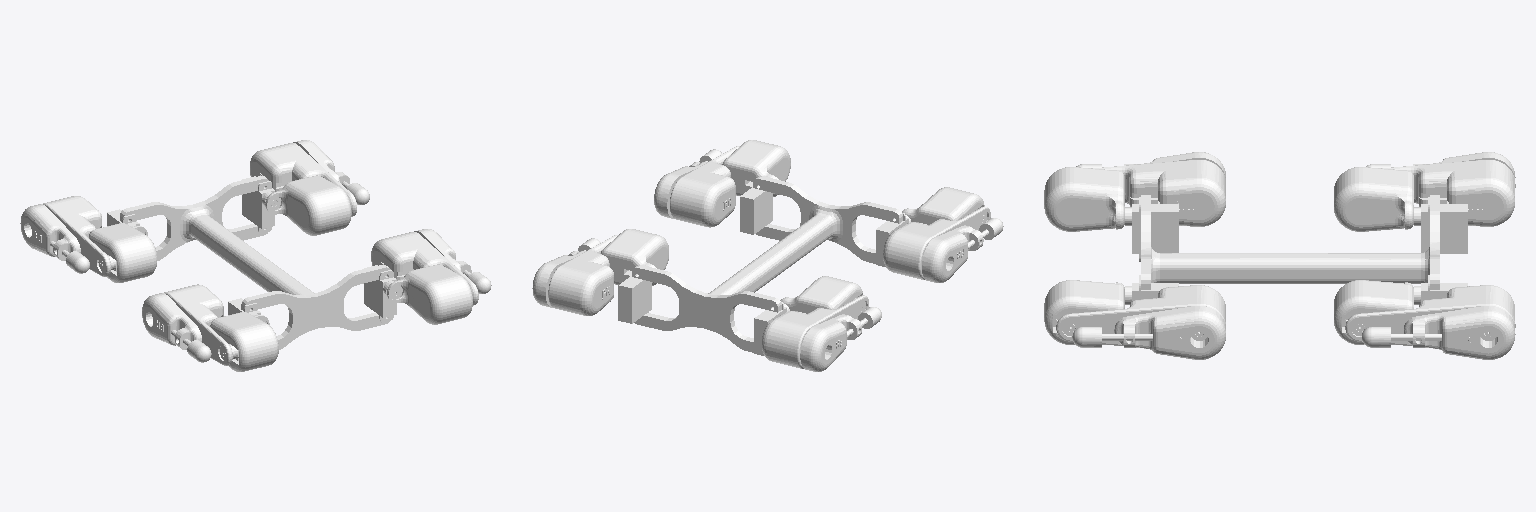
URDF robot description (4LeggedRobot):
<?xml version="1.0" encoding="utf-8"?>
<robot
  name="4LeggedRobot">
  <link
    name="base_link">
    <inertial>
      <origin
        xyz="-4.67618896027923E-18 0.00112926420960739 0.000108071999785027"
        rpy="0 0 0" />
      <mass
        value="0.0405747889566964" />
      <inertia
        ixx="6.21019690807018E-05"
        ixy="-1.55992341540088E-20"
        ixz="-1.56356271185154E-20"
        iyy="7.04769172889022E-06"
        iyz="4.9404265084224E-08"
        izz="6.57507507221997E-05" />
    </inertial>
    <visual>
      <origin
        xyz="0 0 0"
        rpy="0 0 0" />
      <geometry>
        <mesh
          filename="package://LeggedRobot/meshes/base_link.STL" />
      </geometry>
      <material
        name="">
        <color
          rgba="1 1 1 1" />
      </material>
    </visual>
    <collision>
      <origin
        xyz="0 0 0"
        rpy="0 0 0" />
      <geometry>
        <mesh
          filename="package://LeggedRobot/meshes/base_link.STL" />
      </geometry>
    </collision>
  </link>
  <link
    name="RL1">
    <inertial>
      <origin
        xyz="0.0165355859242992 -3.35707190622647E-08 0.0165938065233727"
        rpy="0 0 0" />
      <mass
        value="0.0154728310038278" />
      <inertia
        ixx="1.88017642656069E-06"
        ixy="6.52552468191808E-12"
        ixz="-7.36140757760406E-08"
        iyy="2.06034003299536E-06"
        iyz="-1.60999520321013E-12"
        izz="1.26644048429643E-06" />
    </inertial>
    <visual>
      <origin
        xyz="0 0 0"
        rpy="0 0 0" />
      <geometry>
        <mesh
          filename="package://LeggedRobot/meshes/RL1.STL" />
      </geometry>
      <material
        name="">
        <color
          rgba="1 1 1 1" />
      </material>
    </visual>
    <collision>
      <origin
        xyz="0 0 0"
        rpy="0 0 0" />
      <geometry>
        <mesh
          filename="package://LeggedRobot/meshes/RL1.STL" />
      </geometry>
    </collision>
  </link>
  <joint
    name="RL1"
    type="revolute">
    <origin
      xyz="0.04 0.053 0.006"
      rpy="1.5708 0 0" />
    <parent
      link="base_link" />
    <child
      link="RL1" />
    <axis
      xyz="0 0 1" />
    <limit
      lower="-3.14"
      upper="3.14"
      effort="0"
      velocity="0" />
  </joint>
  <link
    name="RL2">
    <inertial>
      <origin
        xyz="-0.00615048052907508 -2.58694109237477E-07 -0.0443680838684956"
        rpy="0 0 0" />
      <mass
        value="0.017775019102354" />
      <inertia
        ixx="4.28912167153196E-06"
        ixy="-6.75500963480906E-11"
        ixz="-7.00210531163762E-07"
        iyy="4.50065807561721E-06"
        iyz="-2.09226986527391E-11"
        izz="1.41192588509136E-06" />
    </inertial>
    <visual>
      <origin
        xyz="0 0 0"
        rpy="0 0 0" />
      <geometry>
        <mesh
          filename="package://LeggedRobot/meshes/RL2.STL" />
      </geometry>
      <material
        name="">
        <color
          rgba="1 1 1 1" />
      </material>
    </visual>
    <collision>
      <origin
        xyz="0 0 0"
        rpy="0 0 0" />
      <geometry>
        <mesh
          filename="package://LeggedRobot/meshes/RL2.STL" />
      </geometry>
    </collision>
  </link>
  <joint
    name="RL2"
    type="revolute">
    <origin
      xyz="0.03 0 0.023"
      rpy="0 0 0" />
    <parent
      link="RL1" />
    <child
      link="RL2" />
    <axis
      xyz="1 0 0" />
    <limit
      lower="-3.14"
      upper="3.14"
      effort="0"
      velocity="0" />
  </joint>
  <link
    name="RL3">
    <inertial>
      <origin
        xyz="0.00474785006472449 -4.41506464914608E-07 0.0132196273413206"
        rpy="0 0 0" />
      <mass
        value="0.00741481465639685" />
      <inertia
        ixx="1.12934099530278E-06"
        ixy="1.65809730056242E-11"
        ixz="2.3432880006625E-08"
        iyy="9.84902524234339E-07"
        iyz="7.69481103246776E-12"
        izz="2.53579358853455E-07" />
    </inertial>
    <visual>
      <origin
        xyz="0 0 0"
        rpy="0 0 0" />
      <geometry>
        <mesh
          filename="package://LeggedRobot/meshes/RL3.STL" />
      </geometry>
      <material
        name="">
        <color
          rgba="1 1 1 1" />
      </material>
    </visual>
    <collision>
      <origin
        xyz="0 0 0"
        rpy="0 0 0" />
      <geometry>
        <mesh
          filename="package://LeggedRobot/meshes/RL3.STL" />
      </geometry>
    </collision>
  </link>
  <joint
    name="RL3"
    type="revolute">
    <origin
      xyz="0.005 0 -0.055"
      rpy="0 0 0" />
    <parent
      link="RL2" />
    <child
      link="RL3" />
    <axis
      xyz="1 0 0" />
    <limit
      lower="-3.14"
      upper="3.14"
      effort="0"
      velocity="0" />
  </joint>
  <link
    name="FL1">
    <inertial>
      <origin
        xyz="0.0165355859242993 -3.3570719082214E-08 0.0165938065233726"
        rpy="0 0 0" />
      <mass
        value="0.0154728310038278" />
      <inertia
        ixx="1.88017642656069E-06"
        ixy="6.52552468170275E-12"
        ixz="-7.36140757760412E-08"
        iyy="2.06034003299536E-06"
        iyz="-1.60999520308425E-12"
        izz="1.26644048429643E-06" />
    </inertial>
    <visual>
      <origin
        xyz="0 0 0"
        rpy="0 0 0" />
      <geometry>
        <mesh
          filename="package://LeggedRobot/meshes/FL1.STL" />
      </geometry>
      <material
        name="">
        <color
          rgba="1 1 1 1" />
      </material>
    </visual>
    <collision>
      <origin
        xyz="0 0 0"
        rpy="0 0 0" />
      <geometry>
        <mesh
          filename="package://LeggedRobot/meshes/FL1.STL" />
      </geometry>
    </collision>
  </link>
  <joint
    name="FL1"
    type="revolute">
    <origin
      xyz="0.04 -0.071 0.006"
      rpy="1.5708 0 0" />
    <parent
      link="base_link" />
    <child
      link="FL1" />
    <axis
      xyz="0 0 1" />
    <limit
      lower="-3.14"
      upper="3.14"
      effort="0"
      velocity="0" />
  </joint>
  <link
    name="FL2">
    <inertial>
      <origin
        xyz="-0.00615048052834689 -2.58694000943895E-07 -0.0443680838683433"
        rpy="0 0 0" />
      <mass
        value="0.0177750191011879" />
      <inertia
        ixx="4.28912167149233E-06"
        ixy="-6.7550073300334E-11"
        ixz="-7.00210531105169E-07"
        iyy="4.50065807542378E-06"
        iyz="-2.09226897043096E-11"
        izz="1.41192588493079E-06" />
    </inertial>
    <visual>
      <origin
        xyz="0 0 0"
        rpy="0 0 0" />
      <geometry>
        <mesh
          filename="package://LeggedRobot/meshes/FL2.STL" />
      </geometry>
      <material
        name="">
        <color
          rgba="1 1 1 1" />
      </material>
    </visual>
    <collision>
      <origin
        xyz="0 0 0"
        rpy="0 0 0" />
      <geometry>
        <mesh
          filename="package://LeggedRobot/meshes/FL2.STL" />
      </geometry>
    </collision>
  </link>
  <joint
    name="FL2"
    type="revolute">
    <origin
      xyz="0.03 0 0.023"
      rpy="0 0 0" />
    <parent
      link="FL1" />
    <child
      link="FL2" />
    <axis
      xyz="1 0 0" />
    <limit
      lower="-3.14"
      upper="3.14"
      effort="0"
      velocity="0" />
  </joint>
  <link
    name="FL3">
    <inertial>
      <origin
        xyz="0.00474785006472456 -4.41506464895526E-07 0.0132196273413205"
        rpy="0 0 0" />
      <mass
        value="0.00741481465639687" />
      <inertia
        ixx="1.12934099530278E-06"
        ixy="1.65809730057826E-11"
        ixz="2.34328800066249E-08"
        iyy="9.84902524234341E-07"
        iyz="7.69481103225521E-12"
        izz="2.53579358853454E-07" />
    </inertial>
    <visual>
      <origin
        xyz="0 0 0"
        rpy="0 0 0" />
      <geometry>
        <mesh
          filename="package://LeggedRobot/meshes/FL3.STL" />
      </geometry>
      <material
        name="">
        <color
          rgba="1 1 1 1" />
      </material>
    </visual>
    <collision>
      <origin
        xyz="0 0 0"
        rpy="0 0 0" />
      <geometry>
        <mesh
          filename="package://LeggedRobot/meshes/FL3.STL" />
      </geometry>
    </collision>
  </link>
  <joint
    name="FL3"
    type="revolute">
    <origin
      xyz="0.005 0 -0.055"
      rpy="0 0 0" />
    <parent
      link="FL2" />
    <child
      link="FL3" />
    <axis
      xyz="1 0 0" />
    <limit
      lower="-3.14"
      upper="3.14"
      effort="0"
      velocity="0" />
  </joint>
  <link
    name="RR1">
    <inertial>
      <origin
        xyz="-0.0165355859242992 3.35707190492543E-08 0.0165938065233727"
        rpy="0 0 0" />
      <mass
        value="0.0154728310038278" />
      <inertia
        ixx="1.88017642656069E-06"
        ixy="6.52552468170744E-12"
        ixz="7.36140757760404E-08"
        iyy="2.06034003299536E-06"
        iyz="1.6099952031167E-12"
        izz="1.26644048429643E-06" />
    </inertial>
    <visual>
      <origin
        xyz="0 0 0"
        rpy="0 0 0" />
      <geometry>
        <mesh
          filename="package://LeggedRobot/meshes/RR1.STL" />
      </geometry>
      <material
        name="">
        <color
          rgba="1 1 1 1" />
      </material>
    </visual>
    <collision>
      <origin
        xyz="0 0 0"
        rpy="0 0 0" />
      <geometry>
        <mesh
          filename="package://LeggedRobot/meshes/RR1.STL" />
      </geometry>
    </collision>
  </link>
  <joint
    name="RR1"
    type="revolute">
    <origin
      xyz="-0.04 0.053 0.006"
      rpy="1.5708 0 0" />
    <parent
      link="base_link" />
    <child
      link="RR1" />
    <axis
      xyz="0 0 1" />
    <limit
      lower="-3.14"
      upper="3.14"
      effort="0"
      velocity="0" />
  </joint>
  <link
    name="RR2">
    <inertial>
      <origin
        xyz="0.00615048052834685 2.58694000949966E-07 -0.0443680838683432"
        rpy="0 0 0" />
      <mass
        value="0.0177750191011879" />
      <inertia
        ixx="4.28912167149234E-06"
        ixy="-6.75500733002476E-11"
        ixz="7.0021053110517E-07"
        iyy="4.50065807542378E-06"
        iyz="2.09226897044436E-11"
        izz="1.41192588493079E-06" />
    </inertial>
    <visual>
      <origin
        xyz="0 0 0"
        rpy="0 0 0" />
      <geometry>
        <mesh
          filename="package://LeggedRobot/meshes/RR2.STL" />
      </geometry>
      <material
        name="">
        <color
          rgba="1 1 1 1" />
      </material>
    </visual>
    <collision>
      <origin
        xyz="0 0 0"
        rpy="0 0 0" />
      <geometry>
        <mesh
          filename="package://LeggedRobot/meshes/RR2.STL" />
      </geometry>
    </collision>
  </link>
  <joint
    name="RR2"
    type="revolute">
    <origin
      xyz="-0.03 0 0.023"
      rpy="0 0 0" />
    <parent
      link="RR1" />
    <child
      link="RR2" />
    <axis
      xyz="-1 0 0" />
    <limit
      lower="-3.14"
      upper="3.14"
      effort="0"
      velocity="0" />
  </joint>
  <link
    name="RR3">
    <inertial>
      <origin
        xyz="-0.0047478500647245 4.41506464874709E-07 0.0132196273413205"
        rpy="0 0 0" />
      <mass
        value="0.00741481465639685" />
      <inertia
        ixx="1.12934099530278E-06"
        ixy="1.65809730056098E-11"
        ixz="-2.34328800066245E-08"
        iyy="9.84902524234339E-07"
        iyz="-7.6948110323119E-12"
        izz="2.53579358853454E-07" />
    </inertial>
    <visual>
      <origin
        xyz="0 0 0"
        rpy="0 0 0" />
      <geometry>
        <mesh
          filename="package://LeggedRobot/meshes/RR3.STL" />
      </geometry>
      <material
        name="">
        <color
          rgba="1 1 1 1" />
      </material>
    </visual>
    <collision>
      <origin
        xyz="0 0 0"
        rpy="0 0 0" />
      <geometry>
        <mesh
          filename="package://LeggedRobot/meshes/RR3.STL" />
      </geometry>
    </collision>
  </link>
  <joint
    name="RR3"
    type="revolute">
    <origin
      xyz="-0.00499999999999998 0 -0.055"
      rpy="0 0 0" />
    <parent
      link="RR2" />
    <child
      link="RR3" />
    <axis
      xyz="-1 0 0" />
    <limit
      lower="-3.14"
      upper="3.14"
      effort="0"
      velocity="0" />
  </joint>
  <link
    name="FR1">
    <inertial>
      <origin
        xyz="-0.0165355859242992 3.35707190587953E-08 0.0165938065233726"
        rpy="0 0 0" />
      <mass
        value="0.0154728310038278" />
      <inertia
        ixx="1.88017642656069E-06"
        ixy="6.52552468108426E-12"
        ixz="7.36140757760413E-08"
        iyy="2.06034003299536E-06"
        iyz="1.60999520254119E-12"
        izz="1.26644048429643E-06" />
    </inertial>
    <visual>
      <origin
        xyz="0 0 0"
        rpy="0 0 0" />
      <geometry>
        <mesh
          filename="package://LeggedRobot/meshes/FR1.STL" />
      </geometry>
      <material
        name="">
        <color
          rgba="1 1 1 1" />
      </material>
    </visual>
    <collision>
      <origin
        xyz="0 0 0"
        rpy="0 0 0" />
      <geometry>
        <mesh
          filename="package://LeggedRobot/meshes/FR1.STL" />
      </geometry>
    </collision>
  </link>
  <joint
    name="FR1"
    type="revolute">
    <origin
      xyz="-0.04 -0.071 0.00599999999999998"
      rpy="1.5707963267949 0 0" />
    <parent
      link="base_link" />
    <child
      link="FR1" />
    <axis
      xyz="0 0 1" />
    <limit
      lower="-3.14"
      upper="3.14"
      effort="0"
      velocity="0" />
  </joint>
  <link
    name="FR2">
    <inertial>
      <origin
        xyz="0.00615048052824702 2.58693986573445E-07 -0.0443680838683225"
        rpy="0 0 0" />
      <mass
        value="0.017775019101028" />
      <inertia
        ixx="4.28912167148695E-06"
        ixy="-6.75500702402757E-11"
        ixz="7.00210531097166E-07"
        iyy="4.50065807539728E-06"
        iyz="2.09226885203825E-11"
        izz="1.4119258849088E-06" />
    </inertial>
    <visual>
      <origin
        xyz="0 0 0"
        rpy="0 0 0" />
      <geometry>
        <mesh
          filename="package://LeggedRobot/meshes/FR2.STL" />
      </geometry>
      <material
        name="">
        <color
          rgba="1 1 1 1" />
      </material>
    </visual>
    <collision>
      <origin
        xyz="0 0 0"
        rpy="0 0 0" />
      <geometry>
        <mesh
          filename="package://LeggedRobot/meshes/FR2.STL" />
      </geometry>
    </collision>
  </link>
  <joint
    name="FR2"
    type="revolute">
    <origin
      xyz="-0.03 0 0.023"
      rpy="0 0 0" />
    <parent
      link="FR1" />
    <child
      link="FR2" />
    <axis
      xyz="-1 0 0" />
    <limit
      lower="-3.14"
      upper="3.14"
      effort="0"
      velocity="0" />
  </joint>
  <link
    name="FR3">
    <inertial>
      <origin
        xyz="-0.00474785006485695 4.41507593115439E-07 0.0132196273437121"
        rpy="0 0 0" />
      <mass
        value="0.0074148146565658" />
      <inertia
        ixx="1.1293409959014E-06"
        ixy="1.65809556542359E-11"
        ixz="-2.3432880004565E-08"
        iyy="9.84902524925173E-07"
        iyz="-7.69489425583651E-12"
        izz="2.53579358752959E-07" />
    </inertial>
    <visual>
      <origin
        xyz="0 0 0"
        rpy="0 0 0" />
      <geometry>
        <mesh
          filename="package://LeggedRobot/meshes/FR3.STL" />
      </geometry>
      <material
        name="">
        <color
          rgba="1 1 1 1" />
      </material>
    </visual>
    <collision>
      <origin
        xyz="0 0 0"
        rpy="0 0 0" />
      <geometry>
        <mesh
          filename="package://LeggedRobot/meshes/FR3.STL" />
      </geometry>
    </collision>
  </link>
  <joint
    name="FR3"
    type="revolute">
    <origin
      xyz="-0.00499999999999999 0 -0.055"
      rpy="0 0 0" />
    <parent
      link="FR2" />
    <child
      link="FR3" />
    <axis
      xyz="-1 0 0" />
    <limit
      lower="-3.14"
      upper="3.14"
      effort="0"
      velocity="0" />
  </joint>
</robot>

--- Render facts (derived) ---
3 views of the same robot in one strip: view 1: azimuth 30°, elevation 25°; view 2: azimuth 150°, elevation 25°; view 3: azimuth 270°, elevation 25° (orthographic).
Robot: 4LeggedRobot — 13 links, 12 joints (12 revolute); root link base_link; default pose: all joints at 0.
Links seen in each view (by area): view 1: base_link, RL1, FL1, FR1, RR1, FR3, RR3, RL2, FL2, FR2, RR2, RL3 (+1 smaller); view 2: base_link, FL2, RL2, FR2, RR2, RR3, FR3, RL1, FL1, RR1, FR1, FL3 (+1 smaller); view 3: base_link, FL3, RL3, FR2, RR2, FR1, RR1, RL2, FL2, FL1, RL1, RR3 (+1 smaller).
Link boxes in pixels (x1=…): base_link: x1=107, y1=176, x2=398, y2=349; RL1: x1=265, y1=175, x2=351, y2=235; FL1: x1=387, y1=264, x2=472, y2=324; FR1: x1=210, y1=312, x2=278, y2=371; RR1: x1=89, y1=223, x2=156, y2=282; FR3: x1=142, y1=293, x2=211, y2=362; RR3: x1=20, y1=204, x2=89, y2=273; RL2: x1=250, y1=143, x2=356, y2=216; FL2: x1=371, y1=232, x2=478, y2=305; FR2: x1=164, y1=284, x2=232, y2=365; RR2: x1=43, y1=196, x2=111, y2=276; RL3: x1=293, y1=140, x2=369, y2=204; base_link: x1=618, y1=176, x2=910, y2=355; FL2: x1=670, y1=146, x2=739, y2=227; RL2: x1=548, y1=235, x2=617, y2=315; FR2: x1=883, y1=206, x2=990, y2=279; RR2: x1=762, y1=295, x2=868, y2=368; RR3: x1=800, y1=307, x2=881, y2=371; FR3: x1=922, y1=218, x2=1003, y2=282; RL1: x1=601, y1=229, x2=668, y2=285; FL1: x1=722, y1=140, x2=790, y2=196; RR1: x1=780, y1=276, x2=863, y2=313; FR1: x1=902, y1=187, x2=984, y2=224; FL3: x1=654, y1=149, x2=721, y2=218; base_link: x1=1125, y1=195, x2=1467, y2=304; FL3: x1=1072, y1=306, x2=1225, y2=359; RL3: x1=1362, y1=306, x2=1515, y2=359; FR2: x1=1093, y1=160, x2=1225, y2=226; RR2: x1=1383, y1=160, x2=1515, y2=226; FR1: x1=1044, y1=167, x2=1124, y2=231; RR1: x1=1334, y1=167, x2=1413, y2=231; RL2: x1=1345, y1=285, x2=1515, y2=345; FL2: x1=1056, y1=285, x2=1225, y2=345; FL1: x1=1044, y1=280, x2=1124, y2=344; RL1: x1=1334, y1=280, x2=1413, y2=344; RR3: x1=1366, y1=152, x2=1515, y2=177.
Size in the robot's own frame: 0.174 by 0.202 by 0.0335 metres.
Meshes: 13 distinct files referenced, 13 mesh visuals loaded (13 binary STL).